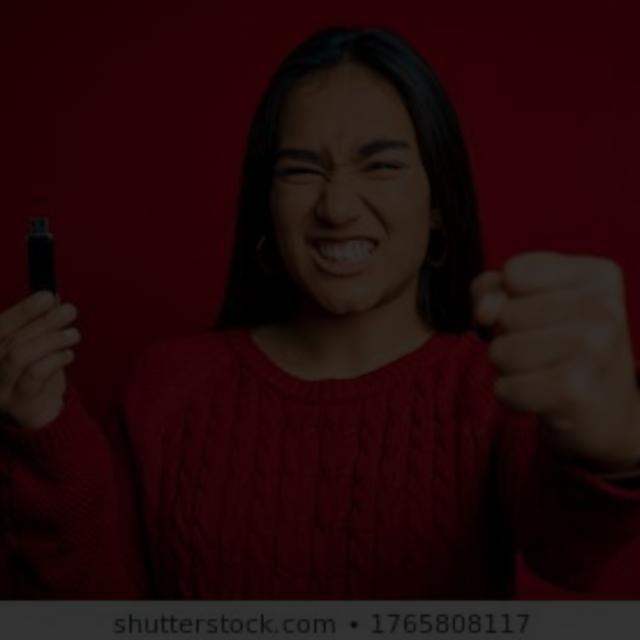Angry: (149, 53, 552, 367)
